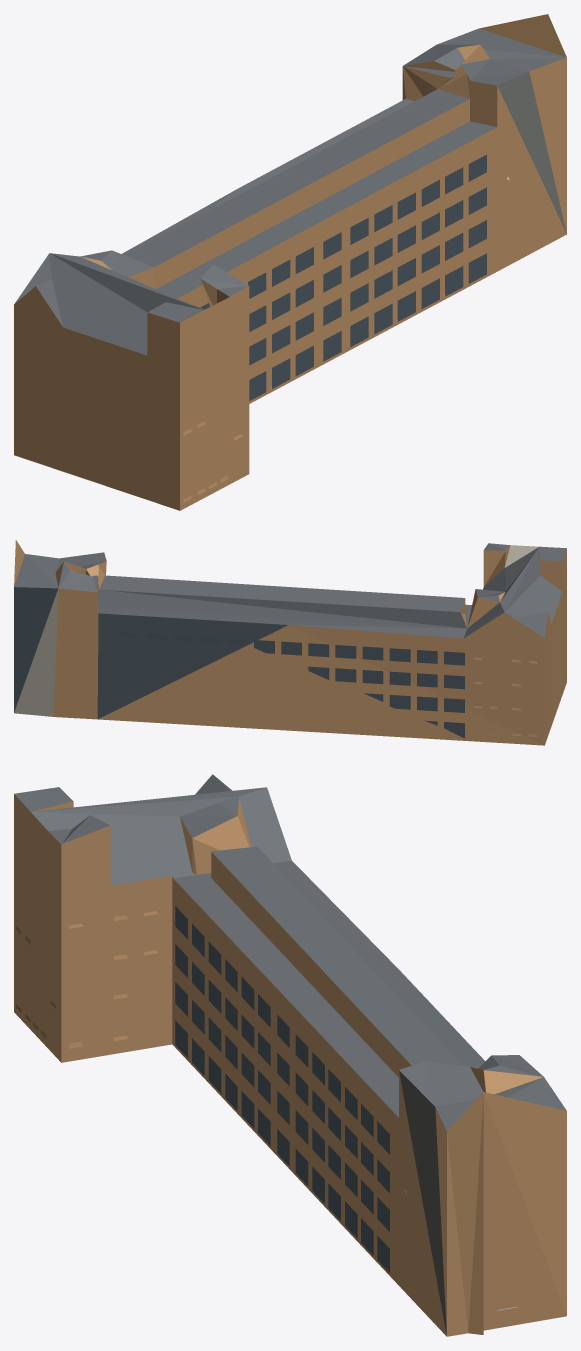
File: asscher-diamantslijperij.lod2.glb
3 renders of one model, top to bottom at view 1: azimuth 30°, elevation 25°; view 2: azimuth 150°, elevation 25°; view 3: azimuth 270°, elevation 25°, orthographic. The views are drawn at different scales.
Visible parts, largest first — view 1: lod2; view 2: lod2; view 3: lod2.
Part boxes in pixels (x1,y1,x2,y2): lod2: (14,14,566,510); lod2: (14,540,566,745); lod2: (14,774,566,1336).
Bounding box in the file's own units: 85.66 × 26.76 × 55.17.
